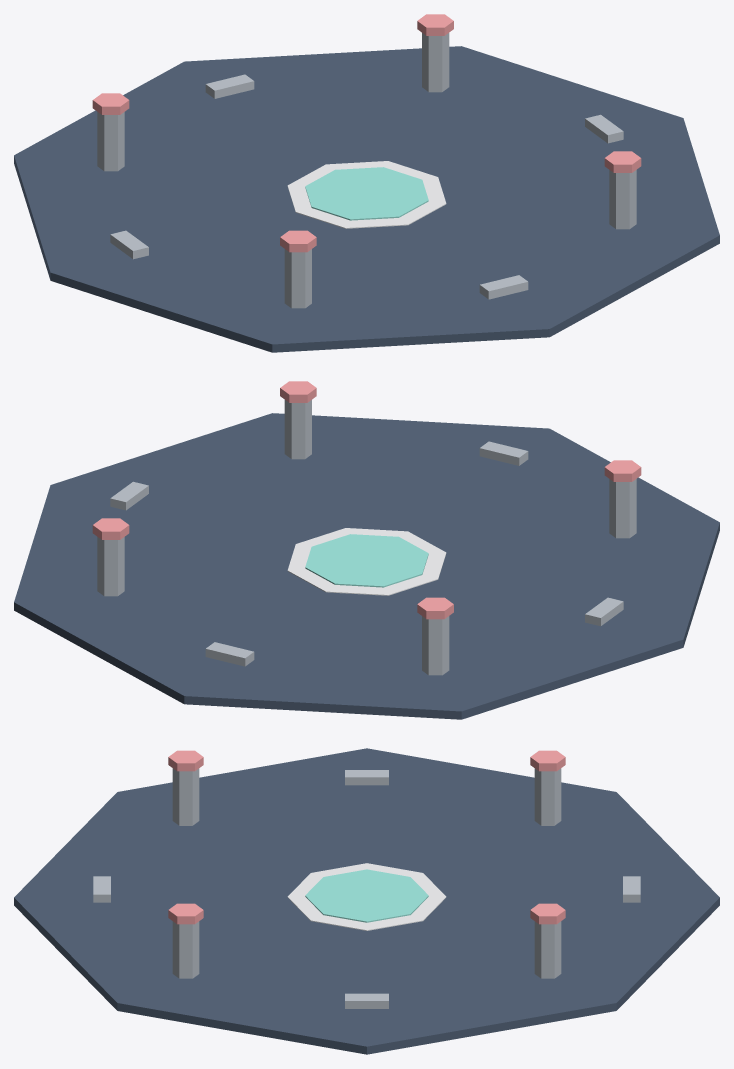
Rendered from spawnhub.glb.
The picture shows the model from 3 angles, top to bottom: view 1: azimuth 30°, elevation 25°; view 2: azimuth 150°, elevation 25°; view 3: azimuth 270°, elevation 25°; orthographic projection. The views are drawn at different scales.
Visible parts, largest first — view 1: HubFloor, SpawnPad, PadRim, MarkerPost.003, MarkerPost.001, MarkerPost.002, MarkerPost, Bench.002, Bench.003, MarkerCap.003, Bench, Bench.001 (+3 smaller); view 2: HubFloor, SpawnPad, PadRim, MarkerPost.002, MarkerPost, MarkerPost.003, MarkerPost.001, Bench.003, Bench.002, MarkerCap.002, Bench, Bench.001 (+3 smaller); view 3: HubFloor, SpawnPad, PadRim, MarkerPost.002, MarkerPost.003, MarkerPost, MarkerPost.001, Bench, Bench.001, MarkerCap.002, MarkerCap.003, MarkerCap (+1 smaller).
Boxes of the visible parts, left/top/right/bottom form: HubFloor: left=14, top=46, right=719, bottom=352; SpawnPad: left=305, top=167, right=428, bottom=220; PadRim: left=287, top=161, right=446, bottom=228; MarkerPost.003: left=284, top=249, right=311, bottom=308; MarkerPost.001: left=609, top=170, right=636, bottom=229; MarkerPost.002: left=97, top=112, right=124, bottom=171; MarkerPost: left=422, top=33, right=449, bottom=92; Bench.002: left=205, top=74, right=254, bottom=98; Bench.003: left=479, top=275, right=528, bottom=299; MarkerCap.003: left=280, top=230, right=316, bottom=252; Bench: left=585, top=114, right=623, bottom=143; Bench.001: left=110, top=230, right=148, bottom=259; HubFloor: left=14, top=413, right=719, bottom=719; SpawnPad: left=305, top=534, right=428, bottom=587; PadRim: left=287, top=528, right=446, bottom=595; MarkerPost.002: left=422, top=616, right=449, bottom=675; MarkerPost: left=97, top=537, right=124, bottom=596; MarkerPost.003: left=609, top=479, right=636, bottom=538; MarkerPost.001: left=284, top=400, right=311, bottom=459; Bench.003: left=479, top=441, right=528, bottom=465; Bench.002: left=205, top=642, right=254, bottom=666; MarkerCap.002: left=417, top=597, right=453, bottom=619; Bench: left=110, top=481, right=148, bottom=510; Bench.001: left=585, top=597, right=623, bottom=626; HubFloor: left=14, top=748, right=719, bottom=1054; SpawnPad: left=305, top=869, right=428, bottom=922; PadRim: left=287, top=863, right=446, bottom=930; MarkerPost.002: left=534, top=768, right=561, bottom=825; MarkerPost.003: left=172, top=768, right=199, bottom=825; MarkerPost: left=534, top=921, right=561, bottom=978; MarkerPost.001: left=172, top=921, right=199, bottom=978; Bench: left=345, top=993, right=388, bottom=1008; Bench.001: left=345, top=770, right=388, bottom=785; MarkerCap.002: left=530, top=750, right=565, bottom=771; MarkerCap.003: left=168, top=750, right=203, bottom=771; MarkerCap: left=530, top=903, right=565, bottom=924.
Bounding box in the file's own units: 571 × 64.29 × 571.
